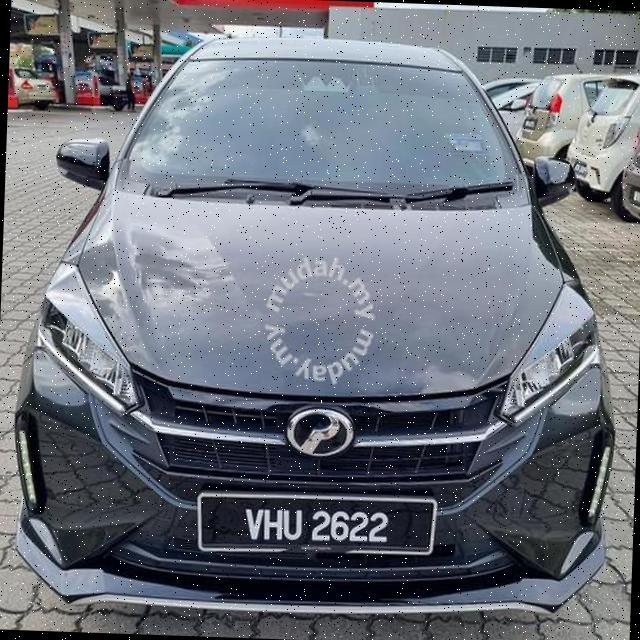License_Plate: (187, 486, 444, 565)
car: (1, 25, 633, 629)
